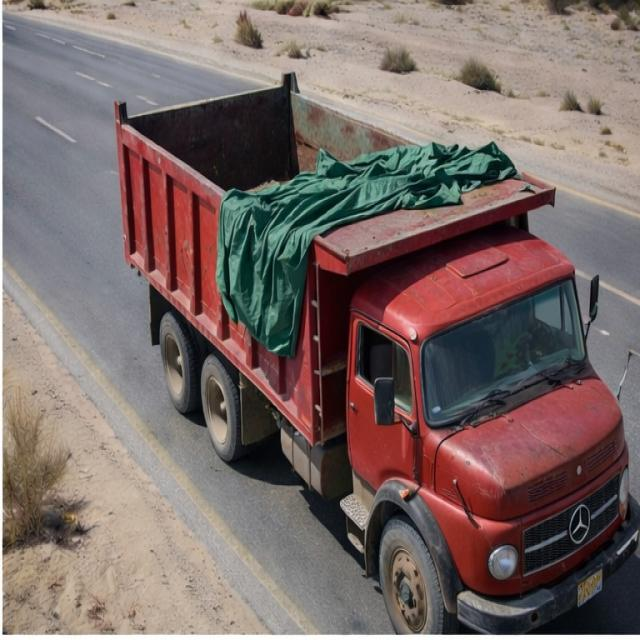Box: (119, 80, 558, 276)
Truck: (106, 49, 639, 629)
